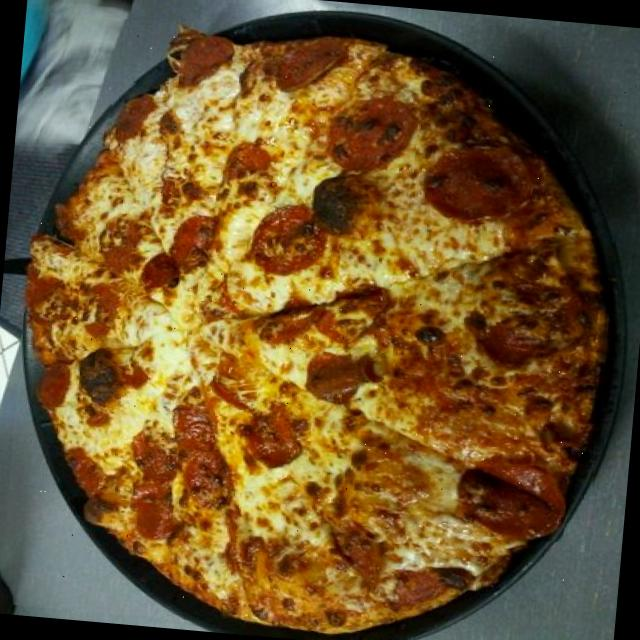pepperoni: (107, 406, 248, 542), (464, 257, 602, 376), (444, 433, 571, 541), (130, 190, 234, 302), (428, 138, 536, 227), (320, 83, 420, 173), (238, 203, 344, 279), (302, 337, 406, 413), (300, 280, 398, 352), (266, 24, 356, 100), (235, 399, 312, 478), (108, 80, 174, 158), (212, 138, 284, 202), (179, 18, 235, 99), (15, 252, 81, 316), (33, 344, 96, 408)
pizza: (26, 29, 607, 632)
